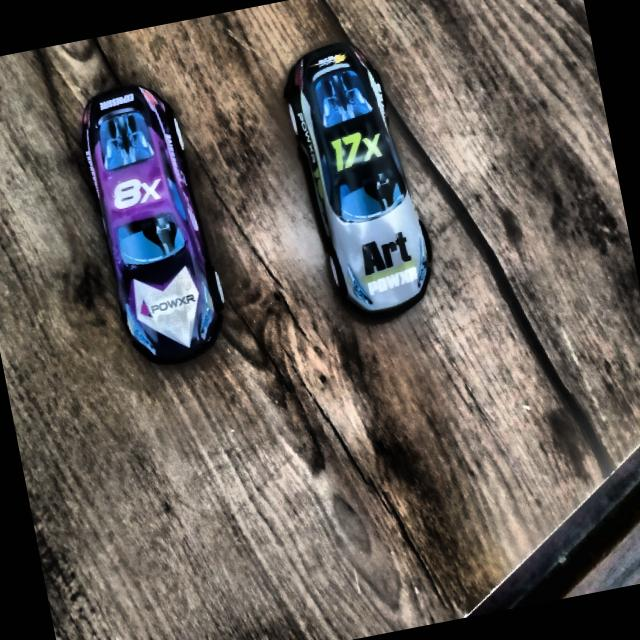Car: (270, 28, 466, 342), (69, 76, 240, 382)
